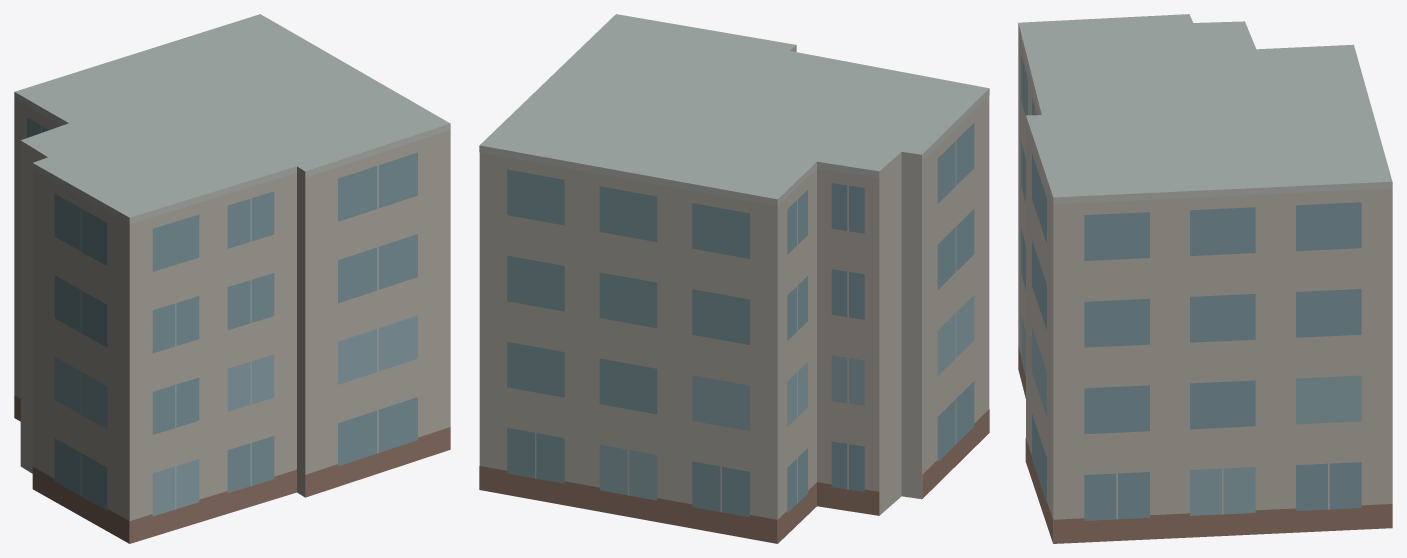
File: survey-upis-32847210.glb
3 renders of one model, left to right at view 1: azimuth 30°, elevation 25°; view 2: azimuth 150°, elevation 25°; view 3: azimuth 270°, elevation 25°, orthographic. The views are drawn at different scales.
Parts seen in each view (by area): view 1: survey-upis-32847210.tmp; view 2: survey-upis-32847210.tmp; view 3: survey-upis-32847210.tmp.
Boxes of the visible parts, x1,y1,x2,y2 form: survey-upis-32847210.tmp: [14, 14, 450, 543]; survey-upis-32847210.tmp: [479, 14, 989, 543]; survey-upis-32847210.tmp: [1018, 14, 1392, 543].
Size of the model in its own units: 13.86 by 12.2 by 11.95.
